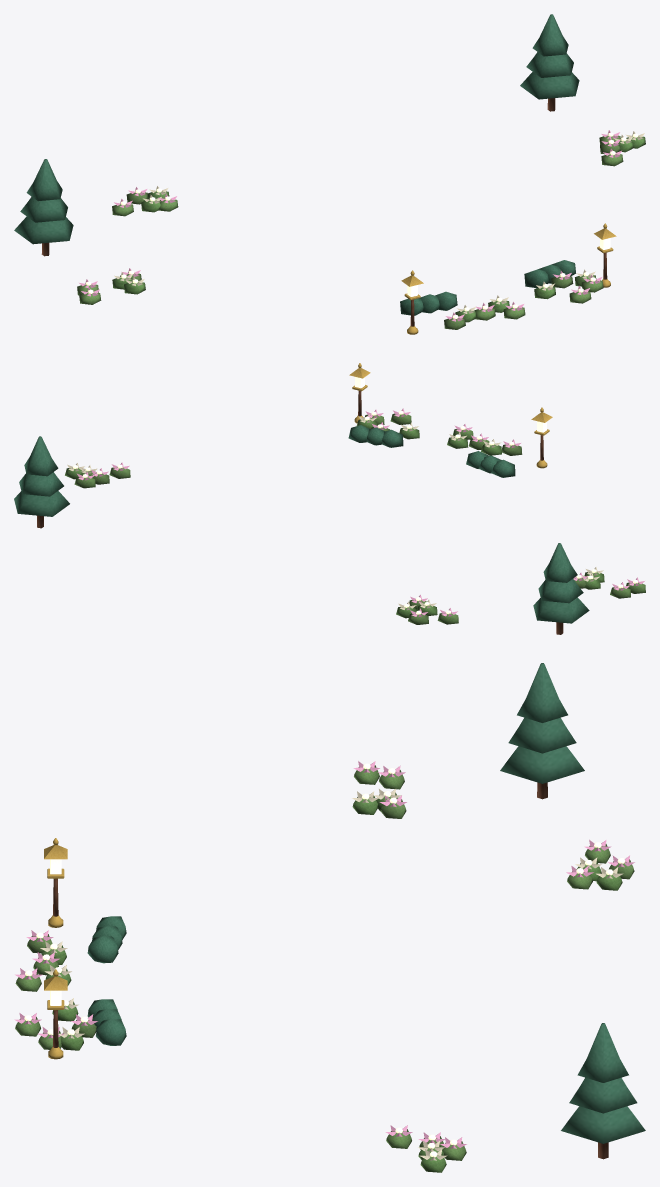
File: royal-garden-dressing-low.glb
3 views of the same model, one above another, from view 1: azimuth 30°, elevation 25°; view 2: azimuth 150°, elevation 25°; view 3: azimuth 270°, elevation 25° (orthographic). The views are drawn at different scales.
Parts seen in each view (by area): view 1: royal-garden-dressing; view 2: royal-garden-dressing; view 3: royal-garden-dressing.
Part boxes in pixels (x1=…): royal-garden-dressing: x1=14, y1=14, x2=645, y2=334; royal-garden-dressing: x1=14, y1=363, x2=645, y2=634; royal-garden-dressing: x1=14, y1=663, x2=645, y2=1172.
Bounding box in the file's own units: 14.06 × 2.18 × 9.35.
7 materials, 7 textured.
